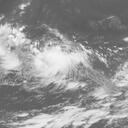cyclone: (31, 48, 69, 80)
